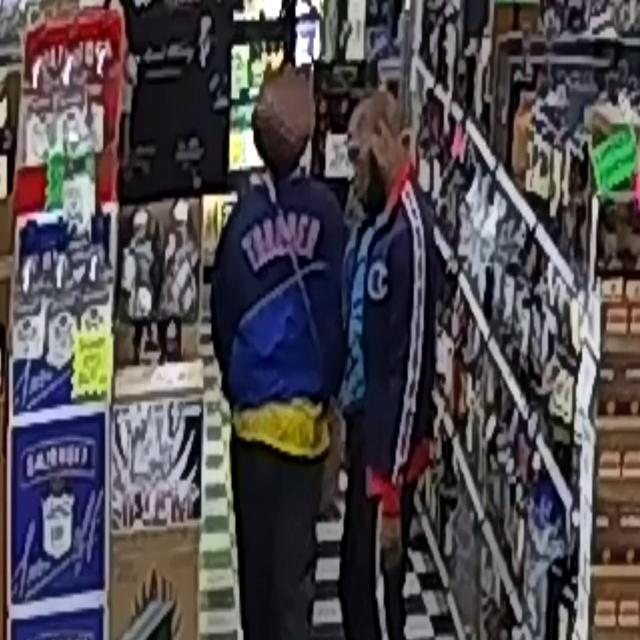normal: (188, 62, 382, 640), (339, 58, 460, 640)
